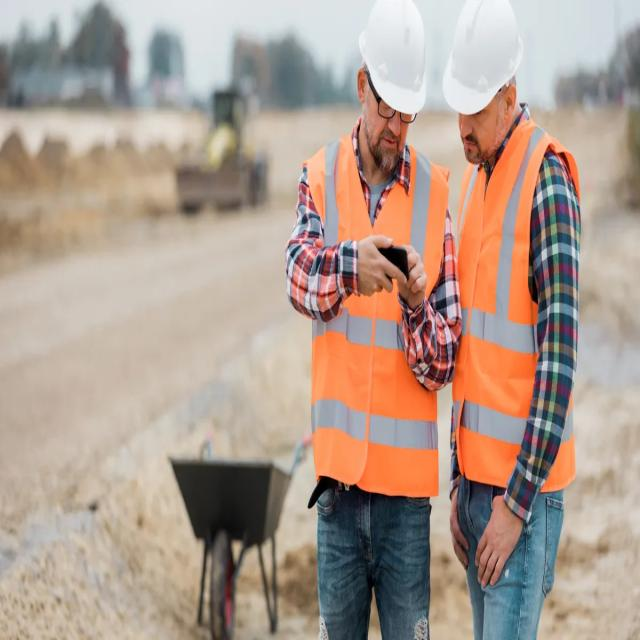Hard Hat: (441, 2, 532, 118), (356, 2, 432, 120)
Reflective Vest: (290, 132, 469, 514), (450, 107, 582, 530)
